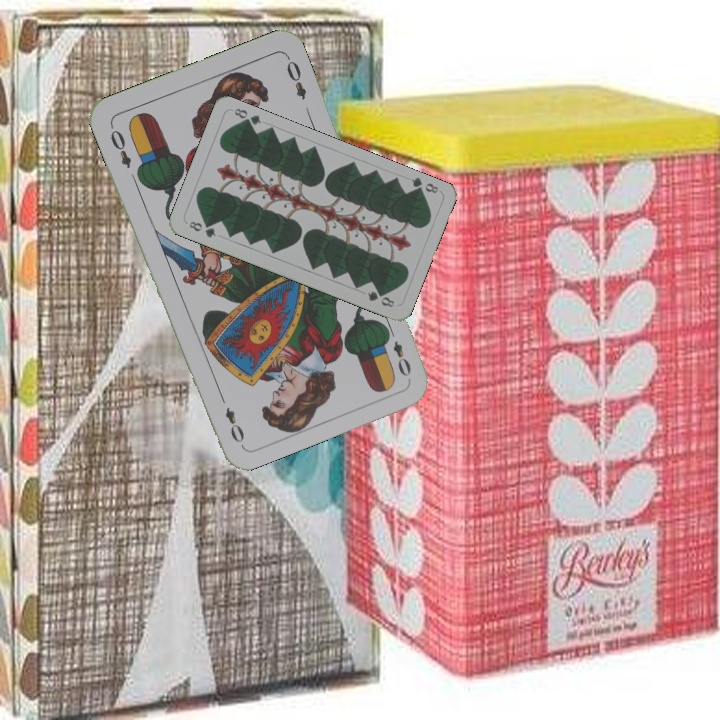EO: (382, 323, 414, 379), (106, 121, 134, 171)
G8: (407, 173, 441, 198), (185, 217, 218, 240)
